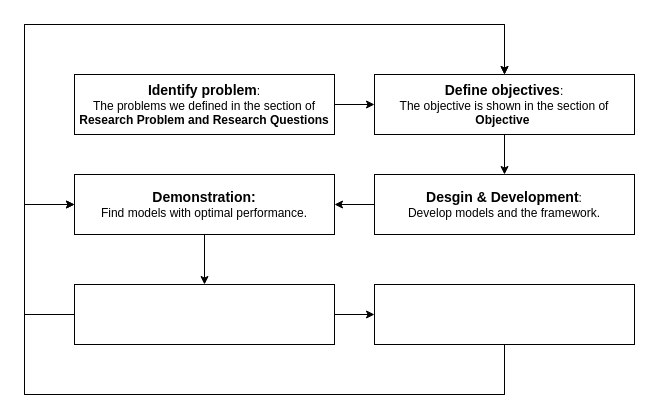
Some shapes in this 652 by 420 pixel diagram are drawn without their labels. The shapes that lost their labels are listed below. From the top down, each one's centre as x and y in pixels, then its label:
point 204,314: Evaluation: Evaluate performance of models.
point 504,314: Communication: Publish results and findings.
